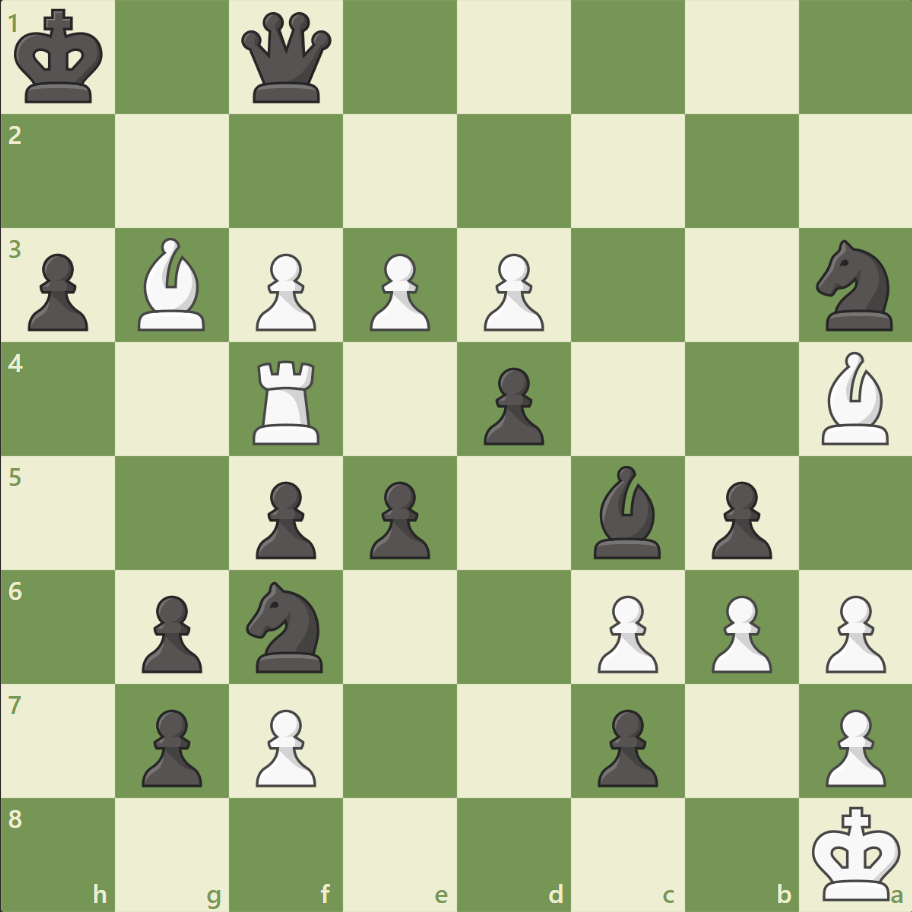B: (131, 233, 215, 336), (812, 347, 896, 449)
K: (806, 798, 906, 906)
P: (247, 700, 322, 791), (701, 586, 776, 677), (474, 246, 549, 337), (247, 246, 322, 337), (815, 700, 889, 791), (815, 586, 889, 677), (588, 586, 662, 677), (361, 246, 435, 337)
R: (246, 352, 329, 449)
b: (585, 460, 669, 563)
k: (11, 4, 111, 112)
n: (806, 234, 903, 337), (238, 575, 335, 677)
p: (133, 700, 208, 791), (133, 586, 208, 677), (701, 473, 776, 564), (247, 473, 322, 564), (474, 359, 549, 450), (20, 246, 95, 337), (588, 700, 662, 791), (361, 473, 435, 564)
q: (237, 9, 336, 108)
